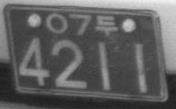0: (45, 11, 69, 34)
1: (90, 40, 120, 90), (126, 43, 154, 93)
2: (51, 38, 87, 89)
4: (18, 37, 50, 86)
7: (69, 12, 92, 36)
두: (95, 14, 118, 36)
